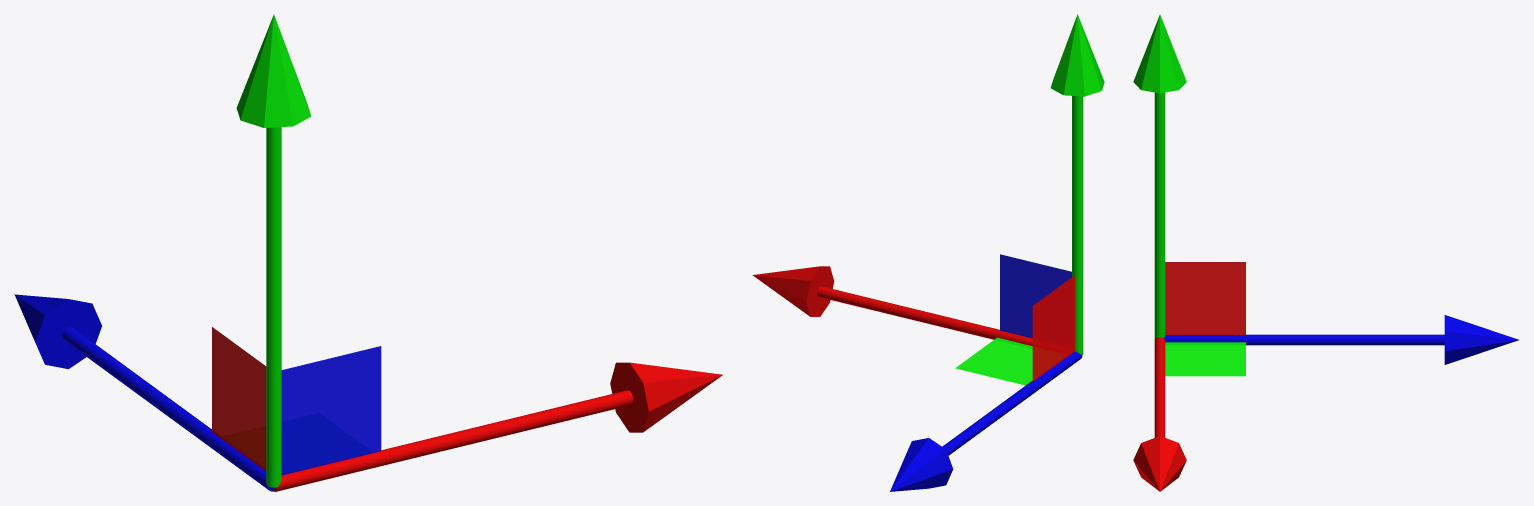
File: translate_gizmo.fbx
3 views of the same model, side by side, from view 1: azimuth 30°, elevation 25°; view 2: azimuth 150°, elevation 25°; view 3: azimuth 270°, elevation 25° (orthographic). The views are drawn at different scales.
Visible parts, largest first — view 1: z_plane_2, z_plane_1, x_plane_2, x_cylinder, y_cylinder, x_plane_1, y_cone, x_cone, z_cylinder, z_cone; view 2: z_plane_2, z_plane_1, x_plane_1, x_plane_2, y_cylinder, x_cylinder, y_cone, y_plane_2, x_cone, z_cone, y_plane_1, z_cylinder; view 3: x_plane_2, x_plane_1, z_cylinder, y_cylinder, y_plane_2, y_plane_1, y_cone, x_cone, z_cone, x_cylinder.
Boxes of the visible parts, left/top/right/bottom form: z_plane_2: left=281, top=346, right=381, bottom=475; z_plane_1: left=281, top=346, right=381, bottom=474; x_plane_2: left=212, top=327, right=266, bottom=471; x_cylinder: left=274, top=390, right=633, bottom=491; y_cylinder: left=266, top=127, right=281, bottom=487; x_plane_1: left=212, top=327, right=266, bottom=470; y_cone: left=236, top=14, right=311, bottom=127; x_cone: left=610, top=362, right=722, bottom=432; z_cylinder: left=62, top=327, right=273, bottom=491; z_cone: left=14, top=294, right=101, bottom=369; z_plane_2: left=1000, top=254, right=1071, bottom=337; z_plane_1: left=1000, top=254, right=1071, bottom=337; x_plane_1: left=1032, top=276, right=1074, bottom=381; x_plane_2: left=1033, top=275, right=1074, bottom=380; y_cylinder: left=1072, top=96, right=1083, bottom=355; x_cylinder: left=817, top=286, right=1032, bottom=346; y_cone: left=1050, top=14, right=1104, bottom=96; y_plane_2: left=955, top=337, right=1032, bottom=385; x_cone: left=752, top=266, right=834, bottom=316; z_cone: left=890, top=438, right=953, bottom=491; y_plane_1: left=957, top=338, right=1032, bottom=385; z_cylinder: left=942, top=351, right=1082, bottom=455; x_plane_2: left=1165, top=262, right=1245, bottom=334; x_plane_1: left=1165, top=262, right=1245, bottom=334; z_cylinder: left=1164, top=334, right=1444, bottom=345; y_cylinder: left=1154, top=92, right=1165, bottom=338; y_plane_2: left=1165, top=342, right=1245, bottom=376; y_plane_1: left=1165, top=342, right=1245, bottom=376; y_cone: left=1133, top=14, right=1186, bottom=93; x_cone: left=1133, top=436, right=1186, bottom=491; z_cone: left=1444, top=315, right=1518, bottom=364; x_cylinder: left=1154, top=337, right=1165, bottom=437.
Bounding box in the file's own units: 360 × 360 × 360.
